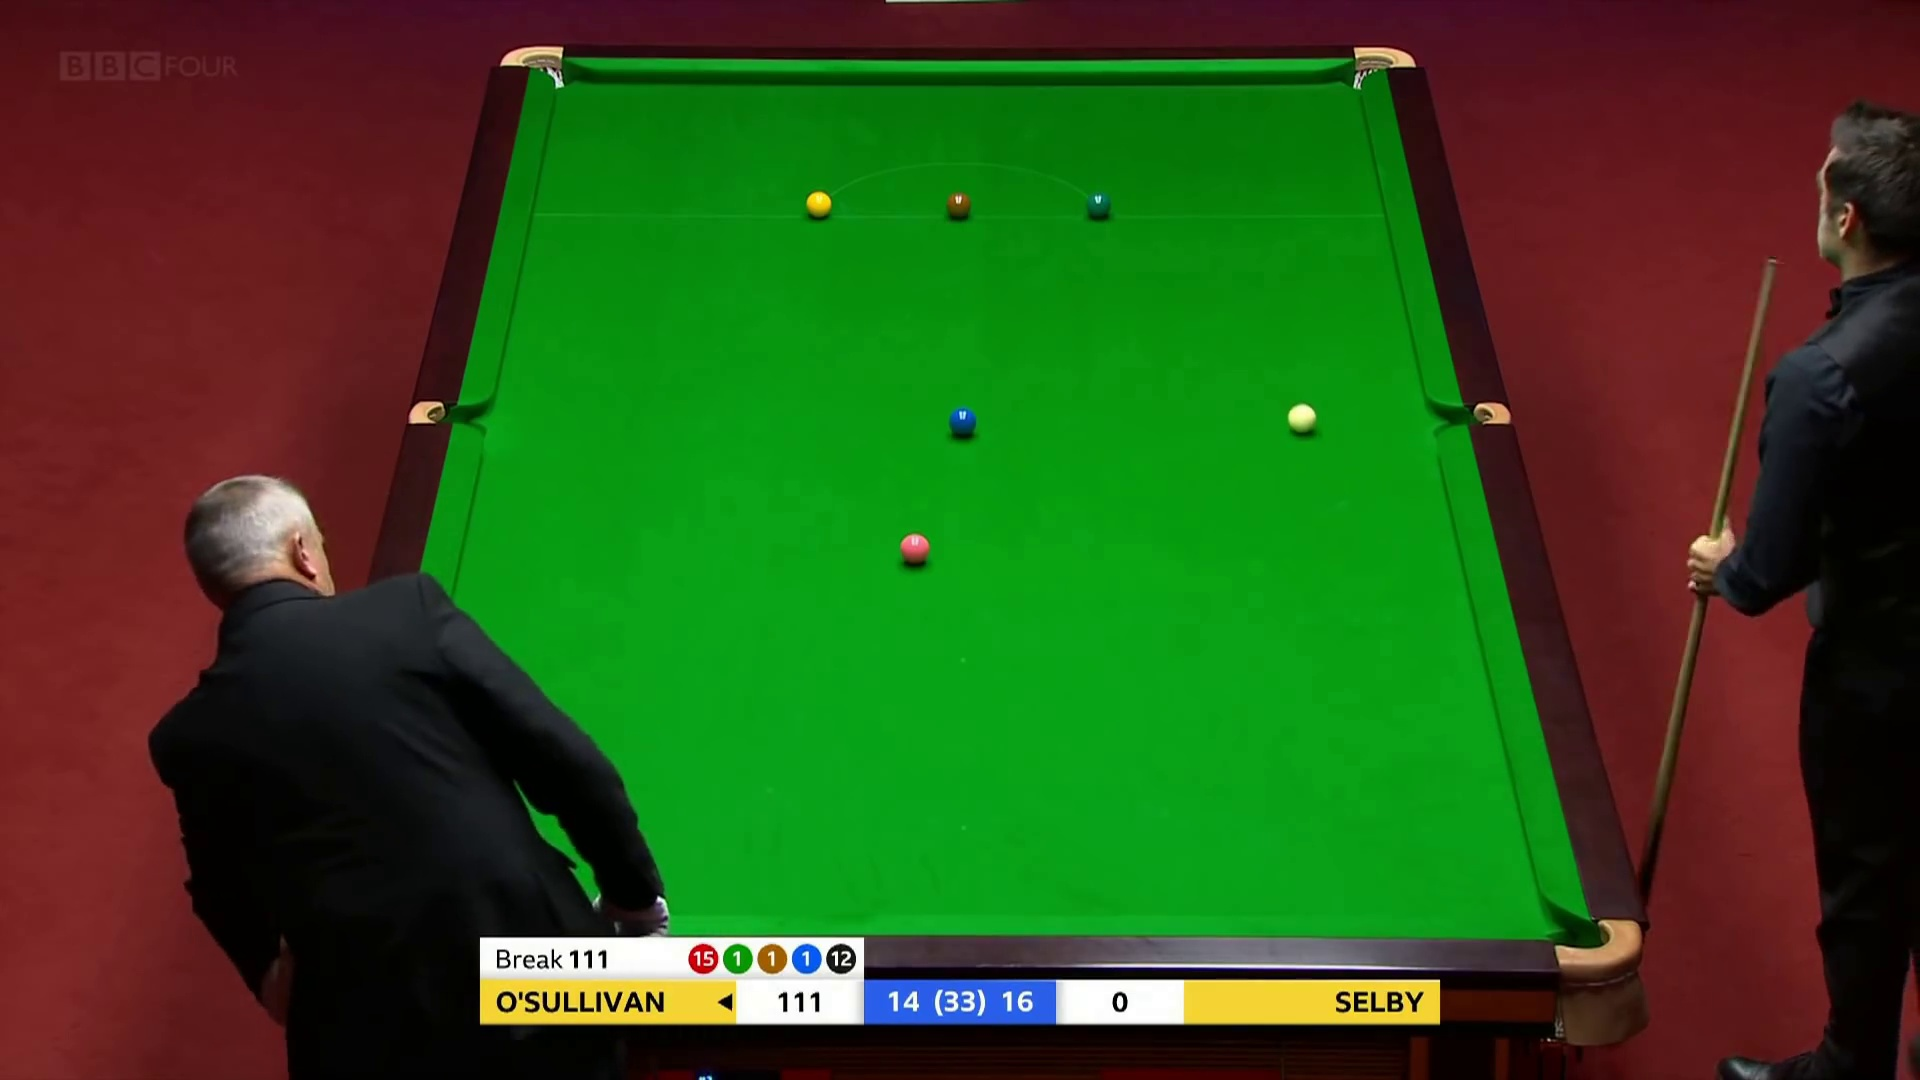blue: (945, 405, 980, 444)
brown: (942, 185, 978, 228)
green: (1083, 190, 1116, 223)
pink: (899, 526, 940, 574)
white: (1282, 392, 1323, 438)
yellow: (803, 189, 837, 223)
